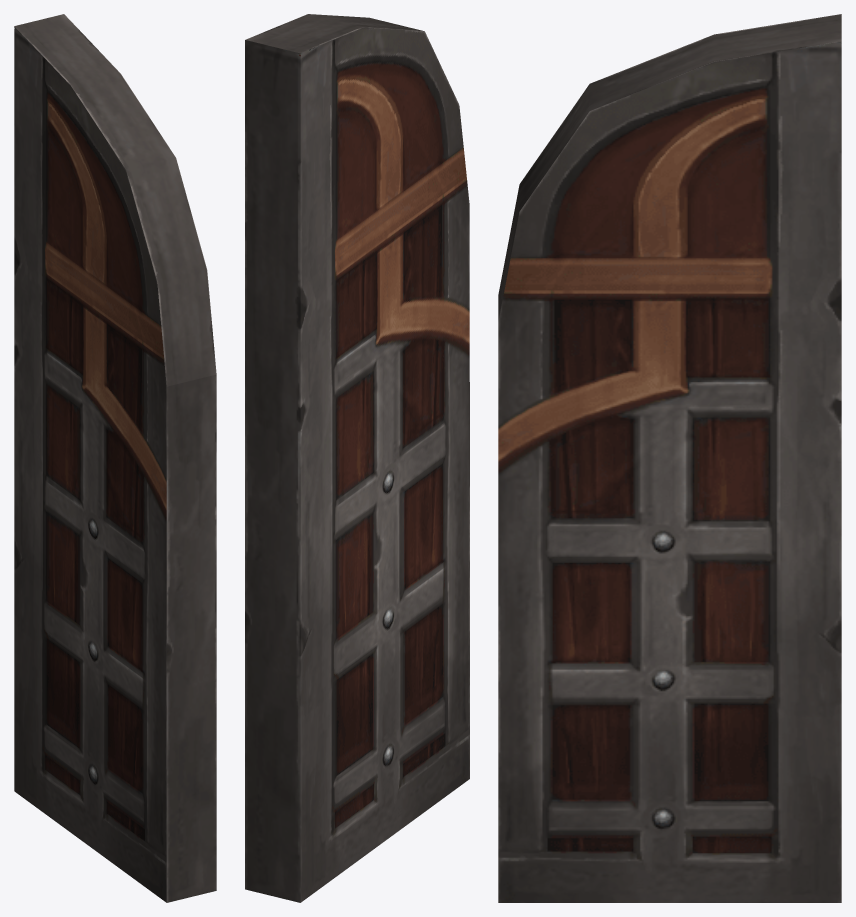
File: Time limit_Gate_01.FBX
3 renders of one model, left to right at view 1: azimuth 30°, elevation 25°; view 2: azimuth 150°, elevation 25°; view 3: azimuth 270°, elevation 25°, orthographic. The views are drawn at different scales.
Visible parts, largest first — view 1: Time limit_Gate_01; view 2: Time limit_Gate_01; view 3: Time limit_Gate_01.
Boxes of the visible parts, box(x1,y1,x2,y2) form: Time limit_Gate_01: box(14, 14, 216, 902); Time limit_Gate_01: box(245, 14, 469, 902); Time limit_Gate_01: box(498, 14, 841, 902).
Bounding box in the file's own units: 0.5902 × 8.64 × 3.12.
